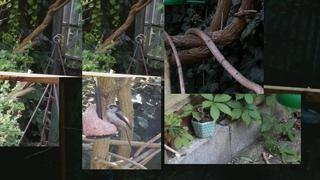long tailed tit: (106, 104, 134, 159)
